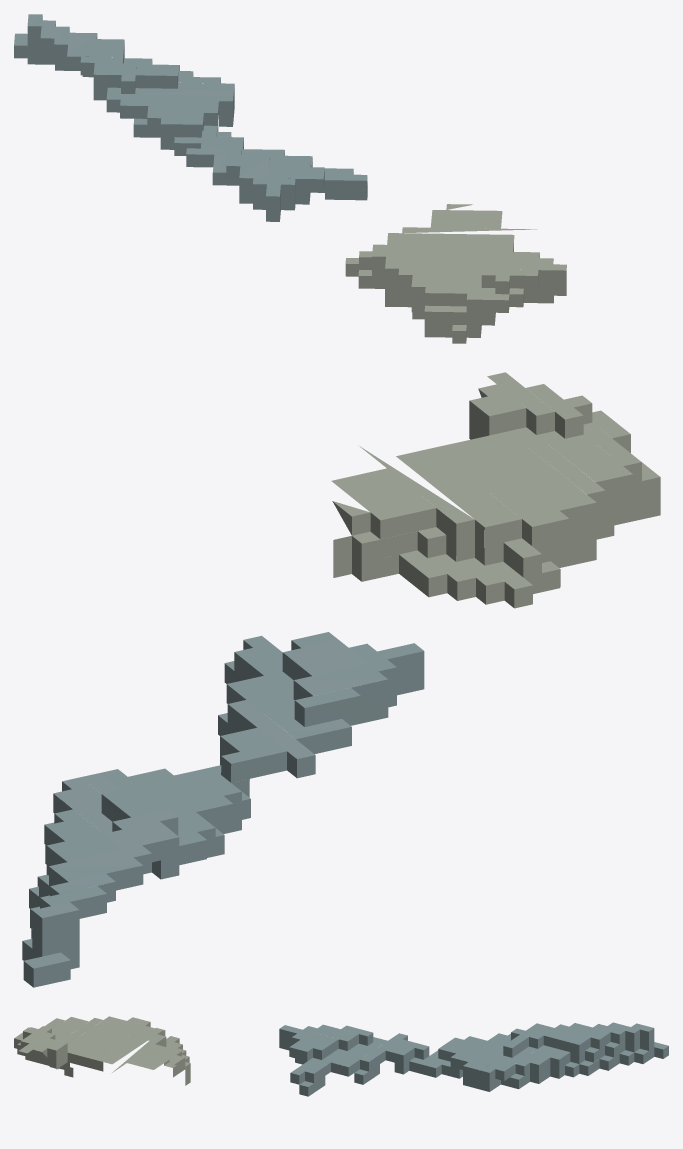
The picture shows the model from 3 angles, top to bottom: view 1: azimuth 30°, elevation 25°; view 2: azimuth 150°, elevation 25°; view 3: azimuth 270°, elevation 25°; orthographic projection. The views are drawn at different scales.
Parts seen in each view (by area): view 1: measured-industrial; view 2: measured-industrial; view 3: measured-industrial.
Part boxes in pixels (left/top/right/bottom): measured-industrial: left=14, top=14, right=566, bottom=343; measured-industrial: left=22, top=372, right=660, bottom=987; measured-industrial: left=14, top=1016, right=668, bottom=1096.
Bounding box in the file's own units: 31.5 × 7.51 × 93.03.
